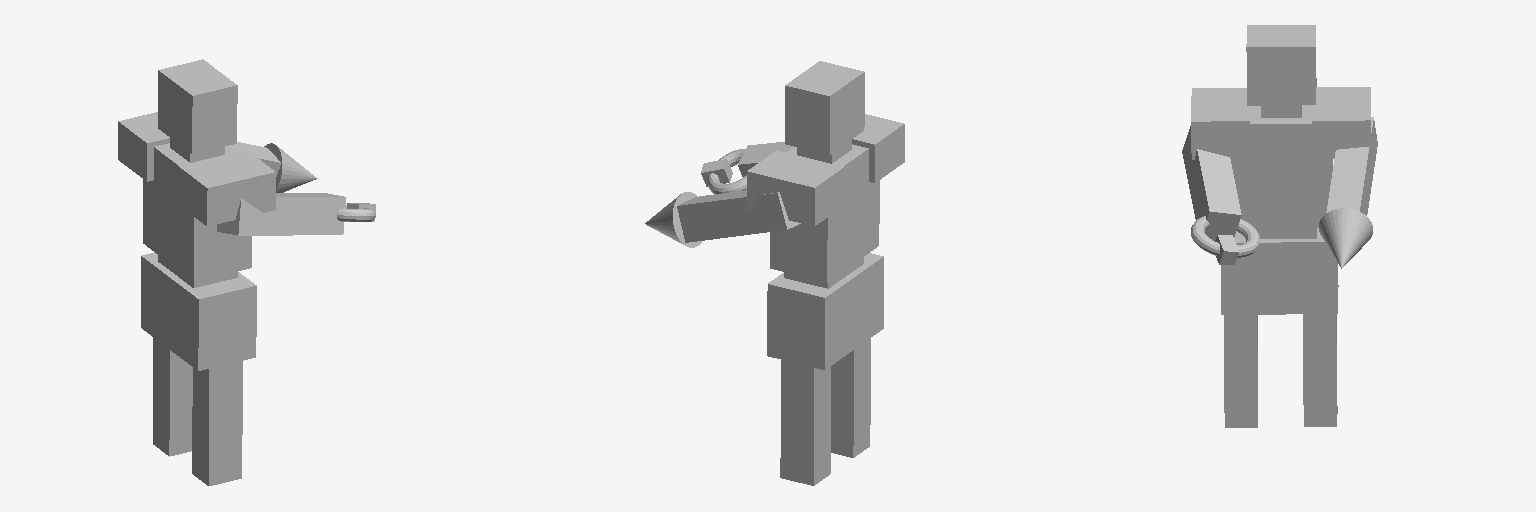
The model's file is robotPush.obj.
The picture shows the model from 3 angles: view 1: azimuth 30°, elevation 25°; view 2: azimuth 150°, elevation 25°; view 3: azimuth 270°, elevation 25°; orthographic projection.
Visible parts, largest first — view 1: kahukubu_Cube.002, dou_Cube.004, atama_Cube.010, migi_asi_Cube, kata2_Cube.007, ude2_Cube.008, hidari_asi_Cube.001, kata1_Cube.006, 円錐, ude1_Cube.005; view 2: kahukubu_Cube.002, dou_Cube.004, atama_Cube.010, hidari_asi_Cube.001, kata1_Cube.006, ude1_Cube.005, migi_asi_Cube, kata2_Cube.007, 円錐, ude2_Cube.008, トーラス, 立方体 (+1 smaller); view 3: dou_Cube.004, kahukubu_Cube.002, atama_Cube.010, kata2_Cube.007, hidari_asi_Cube.001, migi_asi_Cube, kata1_Cube.006, ude2_Cube.008, ude1_Cube.005, 円錐, トーラス, kosijoint_Cube.003 (+1 smaller).
Boxes of the visible parts, x1,y1,x2,y2 form: kahukubu_Cube.002: [141, 252, 256, 370]; dou_Cube.004: [143, 143, 251, 281]; atama_Cube.010: [158, 59, 237, 153]; migi_asi_Cube: [192, 361, 242, 485]; kata2_Cube.007: [178, 150, 275, 226]; ude2_Cube.008: [217, 193, 345, 235]; hidari_asi_Cube.001: [153, 337, 192, 456]; kata1_Cube.006: [118, 112, 169, 181]; 円錐: [264, 143, 317, 192]; ude1_Cube.005: [229, 142, 280, 176]; kahukubu_Cube.002: [767, 253, 883, 369]; dou_Cube.004: [770, 144, 879, 282]; atama_Cube.010: [785, 61, 864, 154]; hidari_asi_Cube.001: [780, 360, 830, 485]; kata1_Cube.006: [747, 150, 844, 226]; ude1_Cube.005: [677, 190, 800, 242]; migi_asi_Cube: [831, 338, 870, 457]; kata2_Cube.007: [852, 114, 904, 182]; 円錐: [645, 192, 701, 247]; ude2_Cube.008: [738, 142, 793, 176]; トーラス: [708, 149, 746, 193]; 立方体: [701, 159, 732, 186]; dou_Cube.004: [1231, 105, 1332, 228]; kahukubu_Cube.002: [1221, 228, 1338, 314]; atama_Cube.010: [1246, 25, 1316, 105]; kata2_Cube.007: [1191, 88, 1250, 159]; hidari_asi_Cube.001: [1303, 314, 1337, 426]; migi_asi_Cube: [1224, 315, 1257, 427]; kata1_Cube.006: [1312, 87, 1370, 158]; ude2_Cube.008: [1182, 126, 1241, 240]; ude1_Cube.005: [1326, 117, 1377, 215]; 円錐: [1319, 208, 1372, 268]; トーラス: [1191, 216, 1259, 257]; kosijoint_Cube.003: [1256, 228, 1316, 238].
Size of the model in its own units: 0.751 by 1.49 by 0.6872.